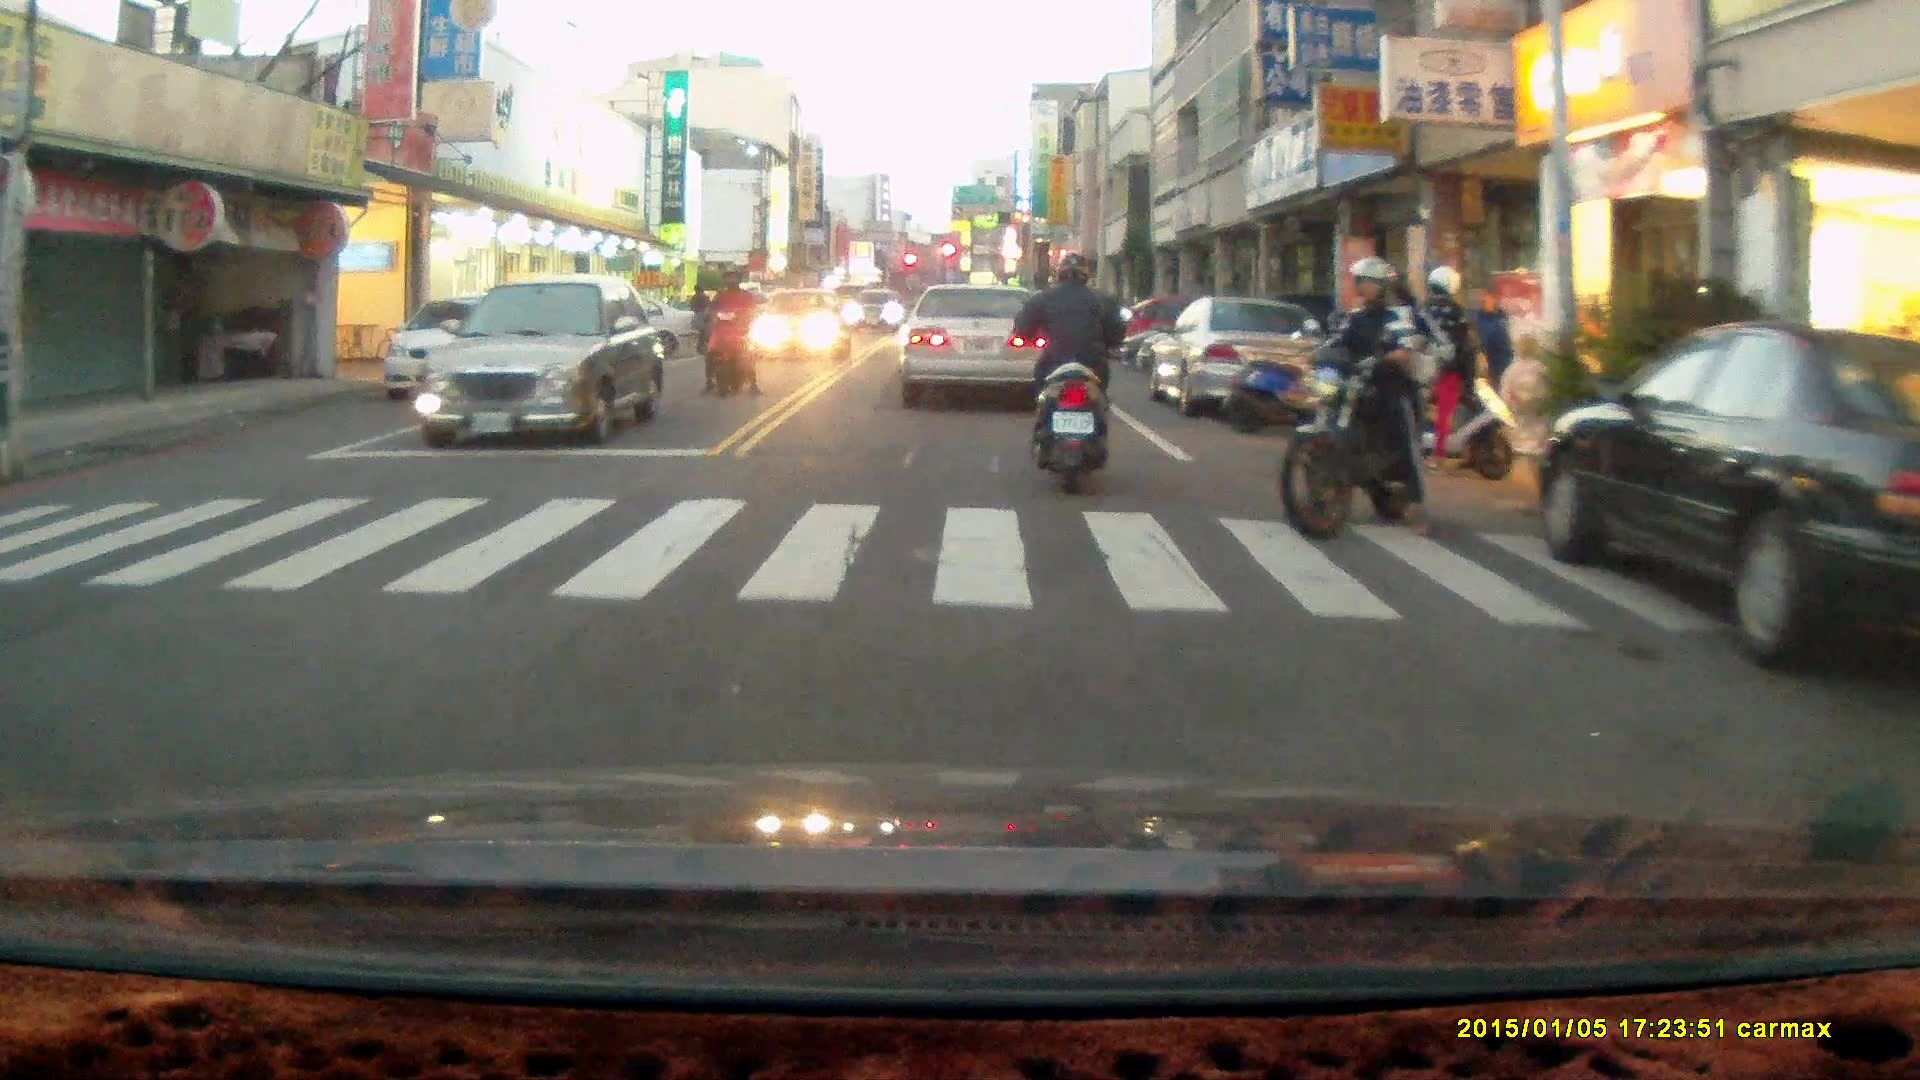pedestrian: (1410, 267, 1473, 471), (1462, 282, 1512, 450), (686, 284, 713, 358)
rider: (1279, 254, 1503, 541), (1012, 251, 1129, 496), (699, 260, 761, 400)
vehicle: (1539, 321, 1920, 679), (424, 276, 668, 452), (1148, 301, 1331, 421), (898, 286, 1053, 412), (383, 290, 544, 410), (744, 287, 848, 366)
